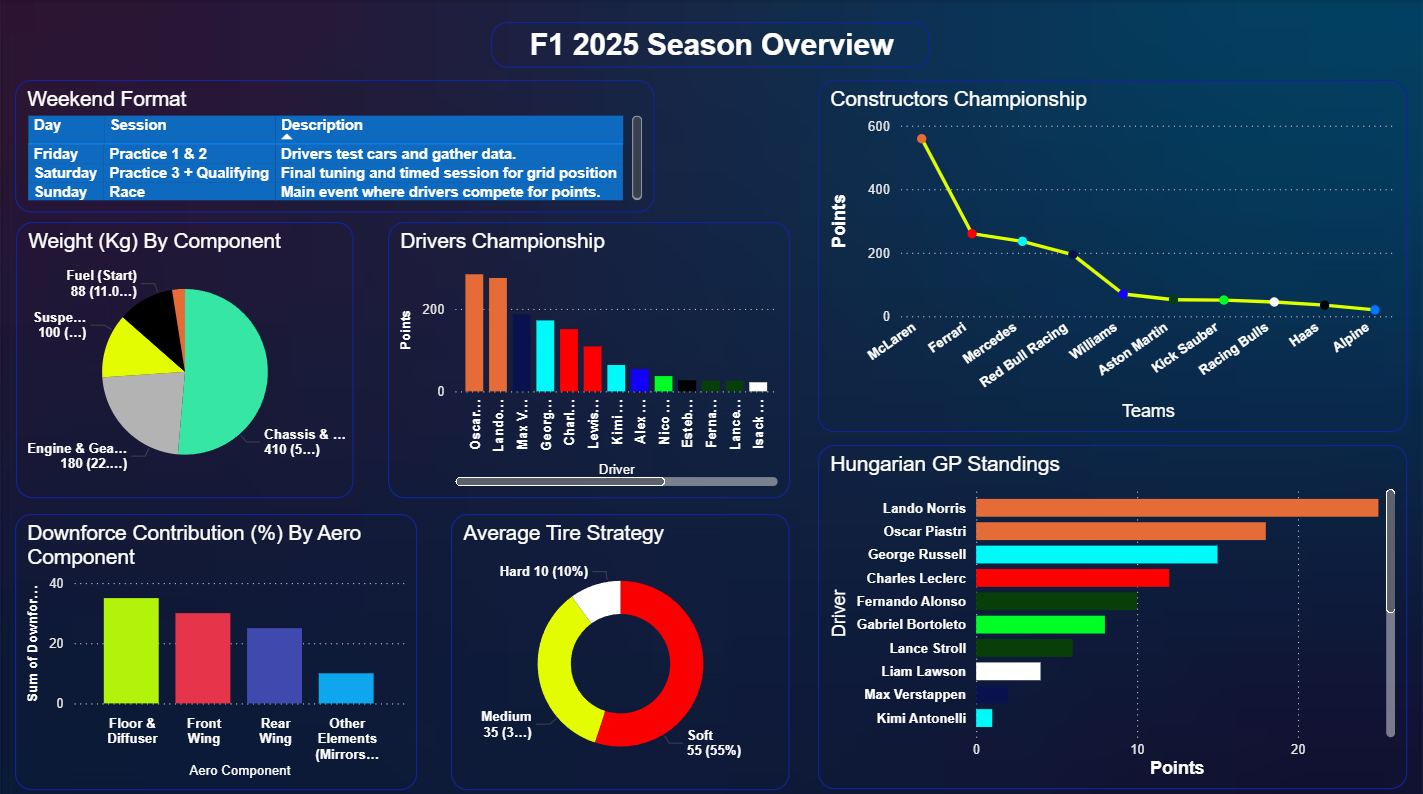

This screenshot's page, from the dashboard's own definition file:
{"tool":"powerbi","page":{"name":"Page 1","canvas":[1280,720],"ordinal":0},"visuals":[{"type":"lineChart","title":"Constructors Championship","fields":{"Category":["Constructors Championship.Team"],"Y":["Sum(Constructors Championship.Points)"]},"box":[736.3,72,529.1,316.1],"z":0},{"type":"actionButton","box":[0,0,100,40],"z":1000},{"type":"columnChart","title":"Drivers Championship","fields":{"Category":["Sheet1.Driver"],"Y":["Sum(Sheet1.Points)"]},"box":[350.2,199.4,360.9,248],"z":2000},{"type":"barChart","title":"Hungarian GP Standings","fields":{"Category":["Sheet1.Driver"],"Y":["Sum(Sheet1.Points)"]},"box":[736.3,399.8,529.1,309.3],"z":3000},{"type":"textbox","title":"F1 2025 Season Overview","box":[442.6,19.5,393.9,40.9],"z":4000},{"type":"donutChart","title":"Average Tire Strategy","fields":{"Category":["Sheet1 (2).Tire Type"],"Y":["Sum(Sheet1 (2).Usage %)"]},"box":[406.6,461,304.4,248],"z":5000},{"type":"tableEx","title":"Weekend Format","fields":{"Values":["Weekend Format.Day","Weekend Format.Session","Weekend Format.Description"]},"box":[15.6,72,573.9,118.7],"z":6000},{"type":"pieChart","title":"Weight (Kg) By Component","fields":{"Category":["Components.Component"],"Y":["Sum(Components.Weight (kg))"]},"box":[16.5,199.4,303.5,248],"z":7000},{"type":"columnChart","title":"Downforce Contribution (%) By Aero Component","fields":{"Category":["Aerodynamics.Aero Component"],"Y":["Sum(Aerodynamics.Downforce Contribution (%))"]},"box":[15.6,461,360.9,248],"z":8000}]}

Visuals, with their boxes in screenshot pixels (x1, y1, x2, y2), scaled from the page's 1280x720 canvas onto the 1423x794 screenshot:
"Constructors Championship" lineChart: detection(819, 79, 1407, 428)
actionButton: detection(0, 0, 111, 44)
"Drivers Championship" columnChart: detection(389, 220, 791, 493)
"Hungarian GP Standings" barChart: detection(819, 441, 1407, 782)
"F1 2025 Season Overview" textbox: detection(492, 22, 930, 67)
"Average Tire Strategy" donutChart: detection(452, 508, 790, 782)
"Weekend Format" tableEx: detection(17, 79, 655, 210)
"Weight (Kg) By Component" pieChart: detection(18, 220, 356, 493)
"Downforce Contribution (%) By Aero Component" columnChart: detection(17, 508, 419, 782)
